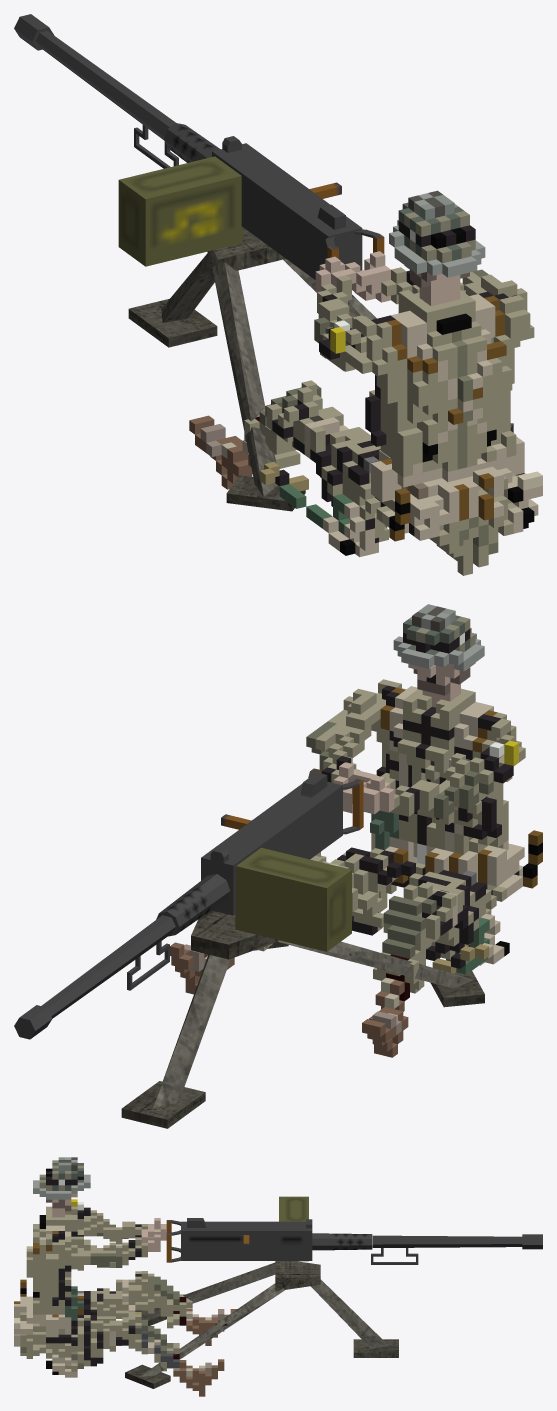
The model's file is m2hb_hmg.glb.
3 renders of one model, top to bottom at view 1: azimuth 30°, elevation 25°; view 2: azimuth 150°, elevation 25°; view 3: azimuth 270°, elevation 25°, orthographic. The views are drawn at different scales.
Visible parts, largest first — view 1: crew_soldier_SLOT_00_GUNNER, weapon_turret_0_willys_mb_mg.mesh, 00_chassis_m1919_hmg_tripod.mesh; view 2: crew_soldier_SLOT_00_GUNNER, weapon_turret_0_willys_mb_mg.mesh, 00_chassis_m1919_hmg_tripod.mesh; view 3: crew_soldier_SLOT_00_GUNNER, weapon_turret_0_willys_mb_mg.mesh, 00_chassis_m1919_hmg_tripod.mesh.
Boxes of the visible parts, left/top/right/bottom form: crew_soldier_SLOT_00_GUNNER: left=189, top=190, right=542, bottom=575; weapon_turret_0_willys_mb_mg.mesh: left=14, top=14, right=384, bottom=279; 00_chassis_m1919_hmg_tripod.mesh: left=128, top=227, right=513, bottom=511; crew_soldier_SLOT_00_GUNNER: left=170, top=604, right=542, bottom=1057; weapon_turret_0_willys_mb_mg.mesh: left=14, top=768, right=363, bottom=1039; 00_chassis_m1919_hmg_tripod.mesh: left=121, top=910, right=484, bottom=1128; crew_soldier_SLOT_00_GUNNER: left=14, top=1157, right=236, bottom=1396; weapon_turret_0_willys_mb_mg.mesh: left=166, top=1196, right=542, bottom=1264; 00_chassis_m1919_hmg_tripod.mesh: left=125, top=1261, right=398, bottom=1388.
Size of the model in its own units: 0.9182 by 1.09 by 2.59.
38 materials, 2 textured.
